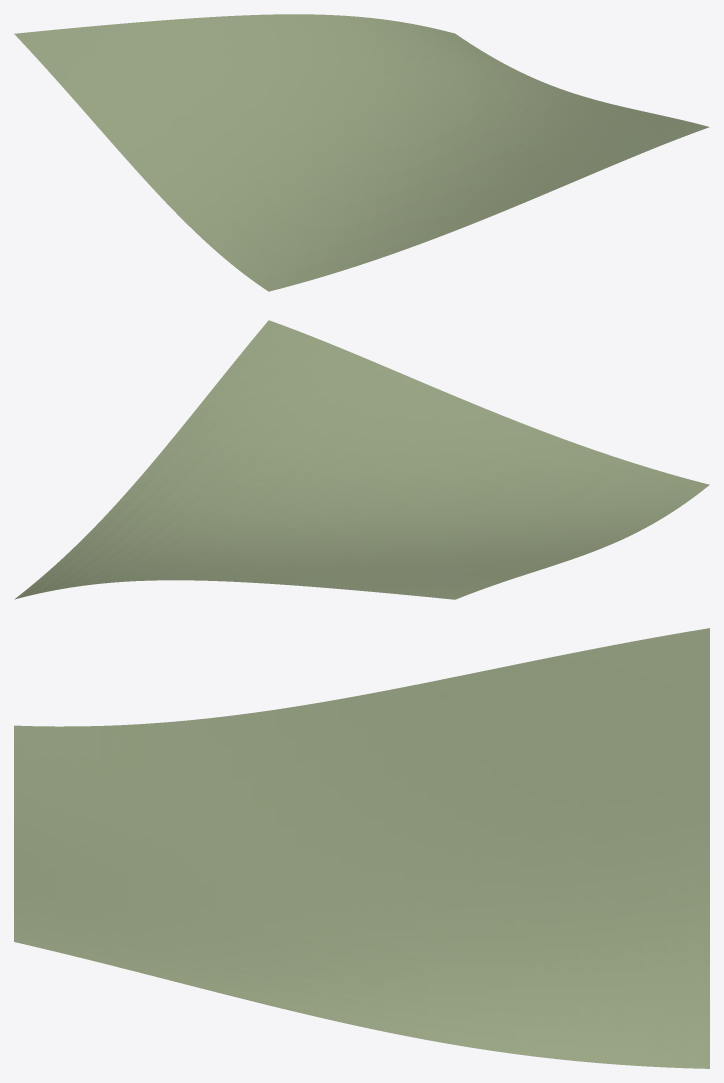
The model's file is expanse-10-21.glb.
3 views of the same model, one above another, from view 1: azimuth 30°, elevation 25°; view 2: azimuth 150°, elevation 25°; view 3: azimuth 270°, elevation 25° (orthographic). The views are drawn at different scales.
Parts seen in each view (by area): view 1: expanse-10-21; view 2: expanse-10-21; view 3: expanse-10-21.
Boxes of the visible parts, x1=… form: expanse-10-21: x1=14, y1=14, x2=709, y2=291; expanse-10-21: x1=14, y1=320, x2=709, y2=599; expanse-10-21: x1=14, y1=628, x2=709, y2=1068.
Bounding box in the file's own units: 256 × 59.58 × 256.
